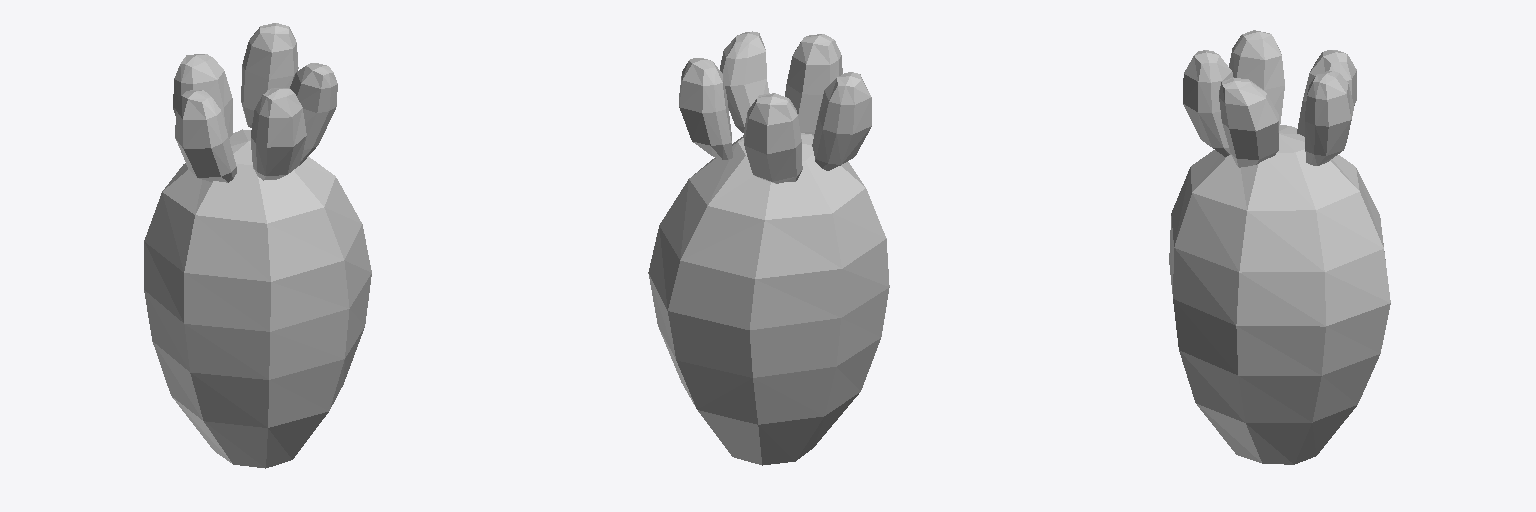
File: Sponge_A_02_LOD1.obj
3 views of the same model, side by side, from view 1: azimuth 30°, elevation 25°; view 2: azimuth 150°, elevation 25°; view 3: azimuth 270°, elevation 25° (orthographic).
Visible parts, largest first — view 1: Sponge_A_02_LOD1_Cylinder.381; view 2: Sponge_A_02_LOD1_Cylinder.381; view 3: Sponge_A_02_LOD1_Cylinder.381.
Boxes of the visible parts, box(x1,y1,x2,y2) form: Sponge_A_02_LOD1_Cylinder.381: box(144, 23, 371, 468); Sponge_A_02_LOD1_Cylinder.381: box(648, 31, 889, 465); Sponge_A_02_LOD1_Cylinder.381: box(1169, 30, 1390, 464).
Bounding box in the file's own units: 2.27 × 4.55 × 2.25.